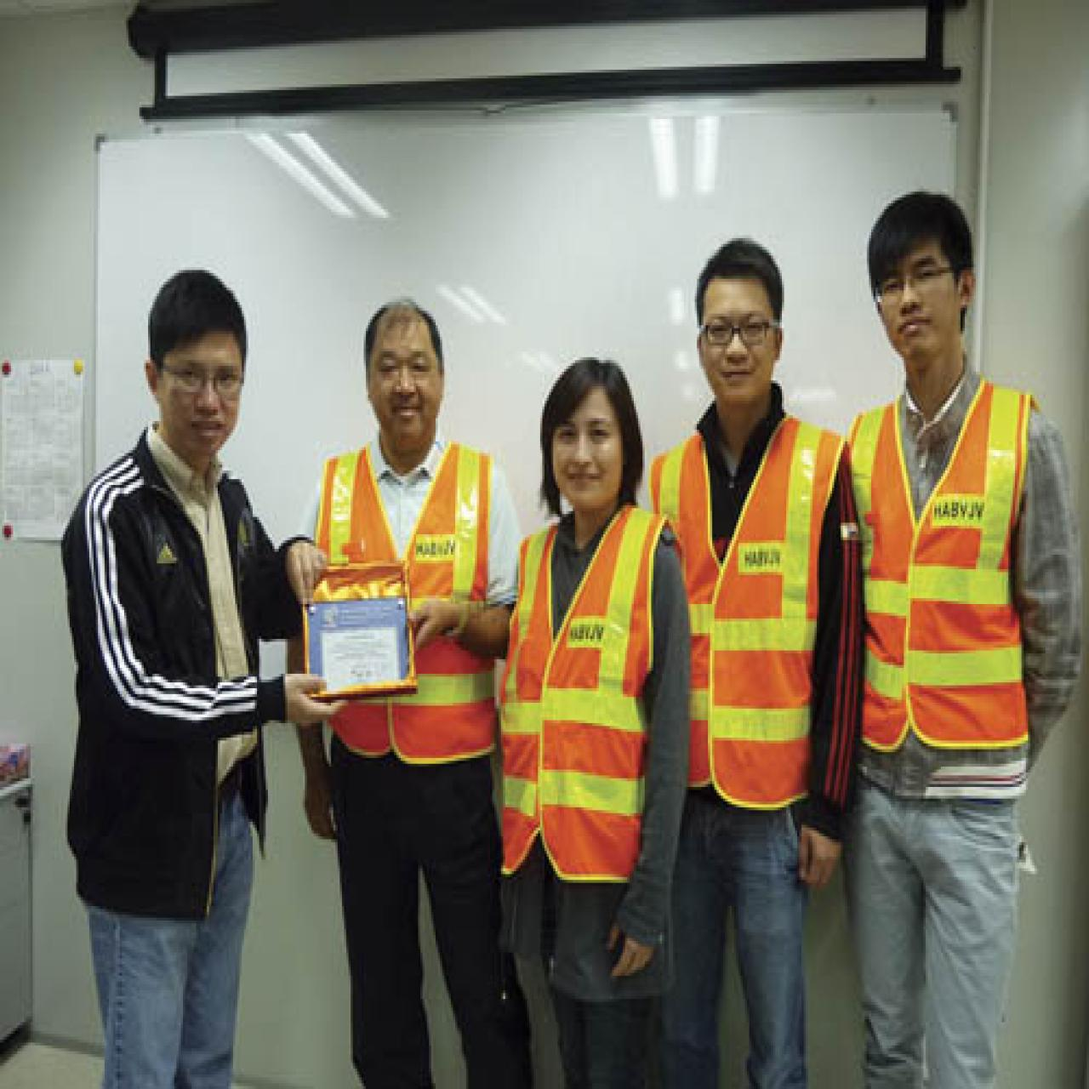NO_Safety_Vest: (62, 448, 281, 867)
Person: (56, 259, 331, 1089), (831, 187, 1075, 1081), (290, 302, 531, 1085), (641, 232, 858, 1078), (494, 361, 693, 1083)
Safety_Vest: (647, 415, 848, 821), (851, 378, 1053, 767), (299, 438, 510, 788), (503, 498, 681, 897)
